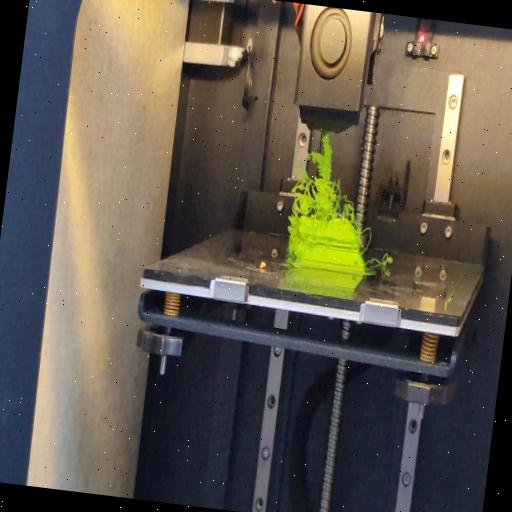spaghetti: (289, 126, 368, 226), (285, 216, 301, 269), (358, 224, 373, 258), (368, 252, 393, 268)
